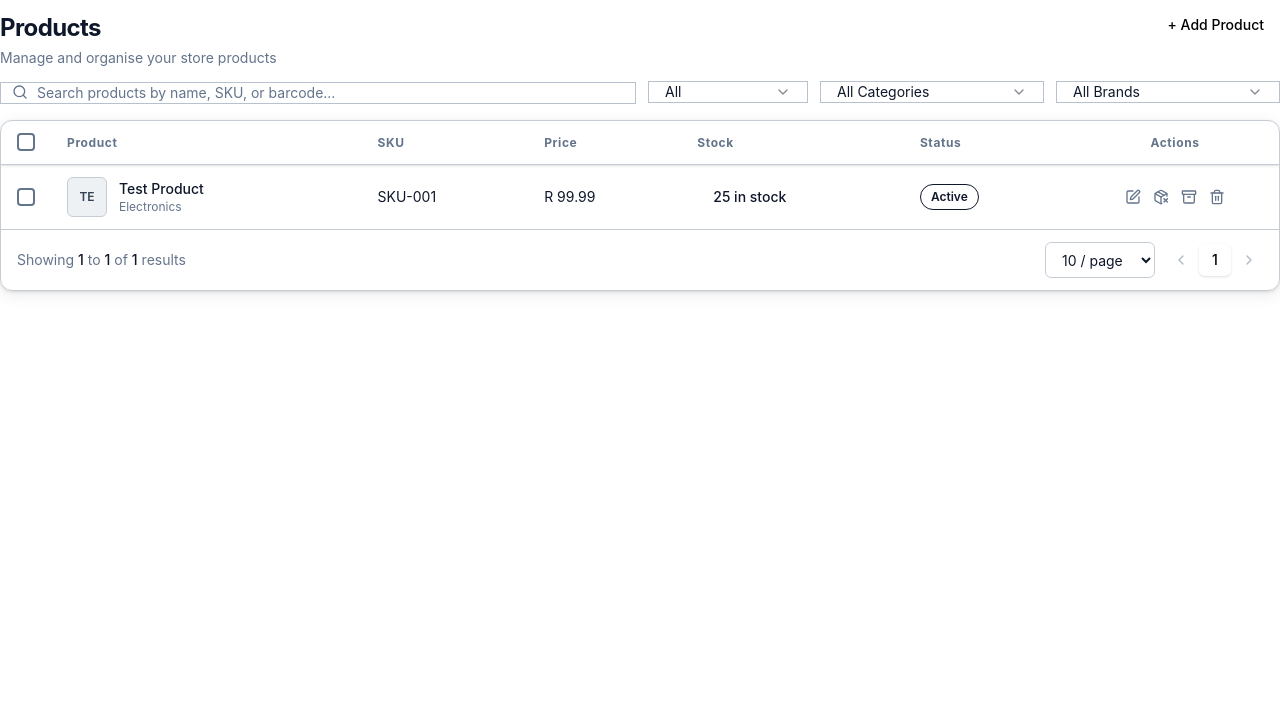
ProductListPage › delete confirmation dialog › opens ConfirmationDialog with product name when delete is clicked
Note: Delete is now an inline icon button in the Actions column
Click the button with test id "action-delete" at {"x": 1217, "y": 197}, box [1205, 185, 1229, 209]
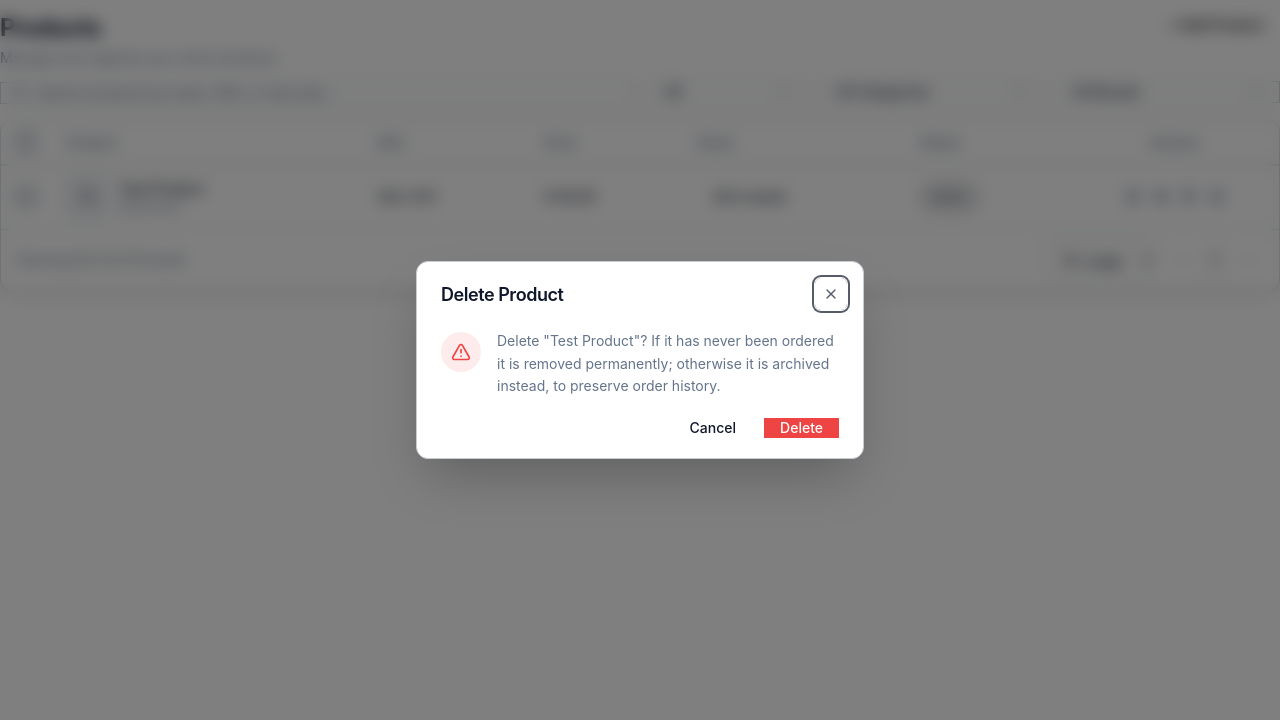
Check: the dialog is shown, box [416, 261, 864, 459]
Check: the text "Delete \"Test Product\"?" is shown, box [497, 332, 834, 394]
